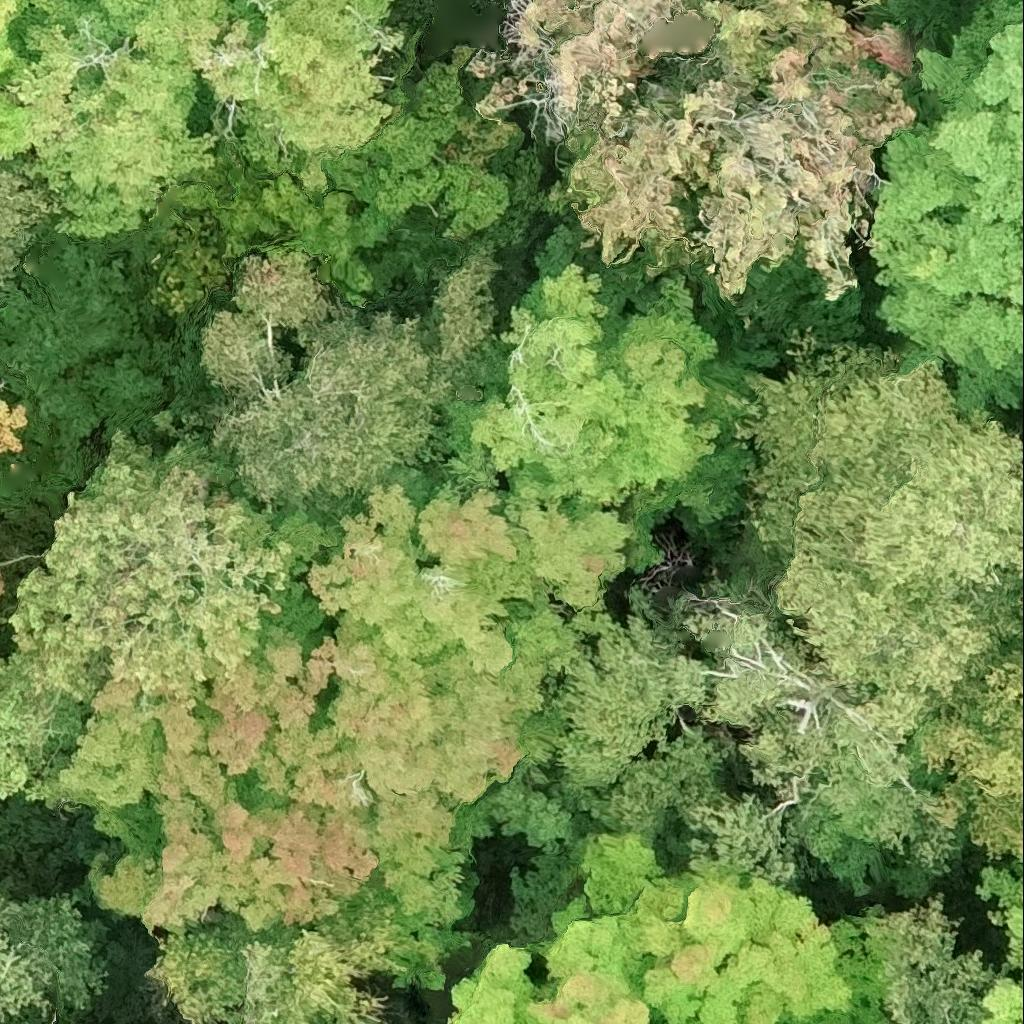crown: (744, 329, 1023, 704), (449, 835, 849, 1023), (153, 906, 402, 1023), (918, 595, 1023, 864), (0, 882, 94, 1023), (975, 864, 1023, 1023)
